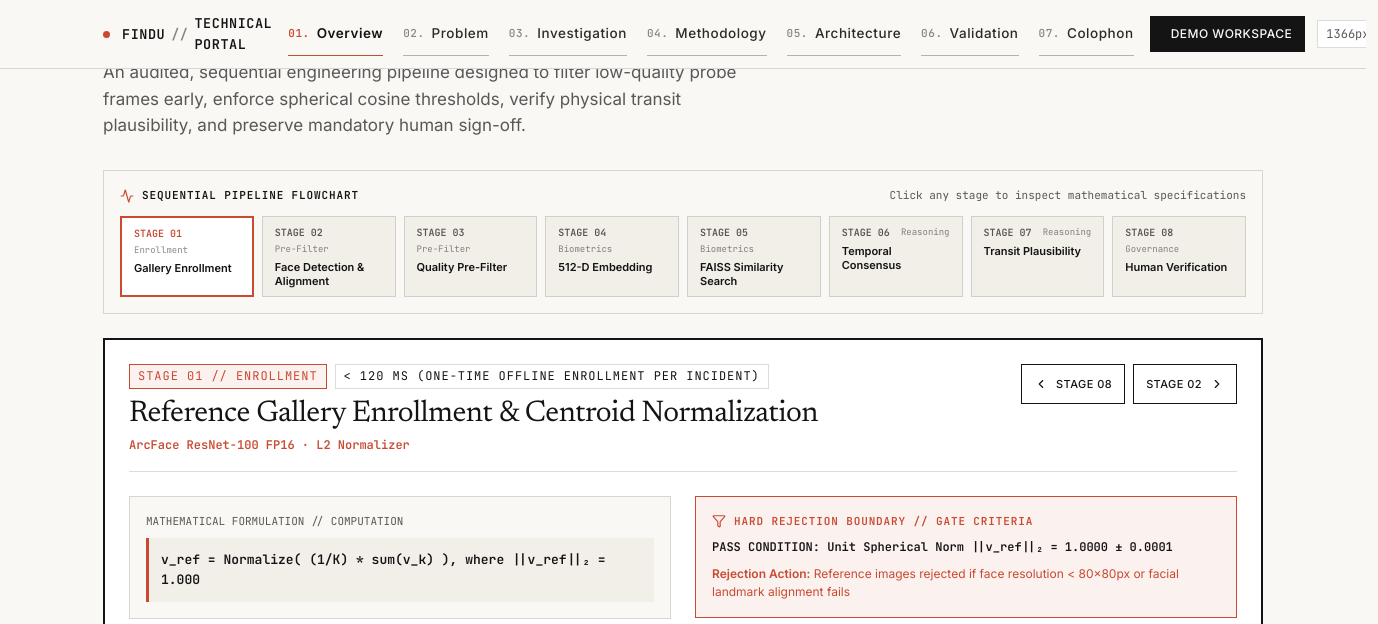
Test: Phase P6: Technical Methodology & Architecture Verification › Section 04: Technical Methodology Pipeline › allows advancing pipeline stages using next and previous controls
The image size is (1378, 624).
(page scrolled)
Click Next stage button
Step 1. Click the button with aria-label "Next pipeline stage" → (1185, 384), box [1133,364,1237,404]
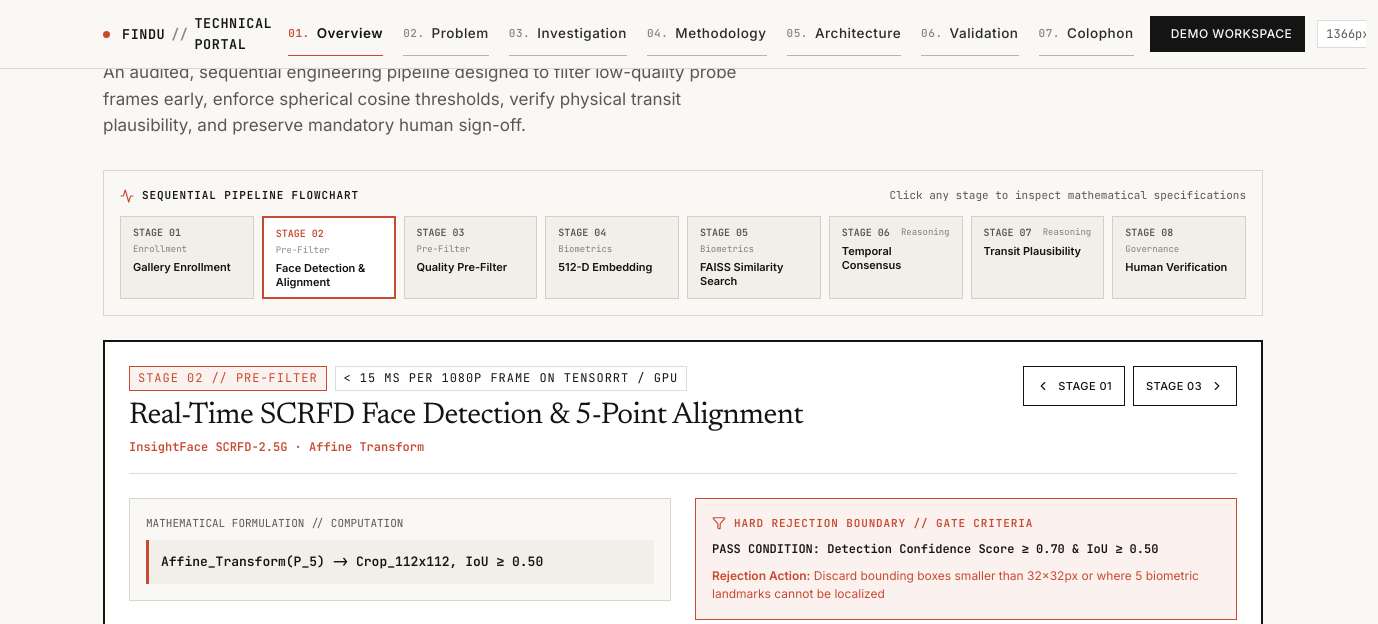
Check: the heading "Real-Time SCRFD Face Detection & 5-Point Alignment" is shown, box [129,401,803,431]
Advance again to Stage 03
Step 2. Click the button with aria-label "Next pipeline stage" → (1185, 386), box [1133,366,1237,406]
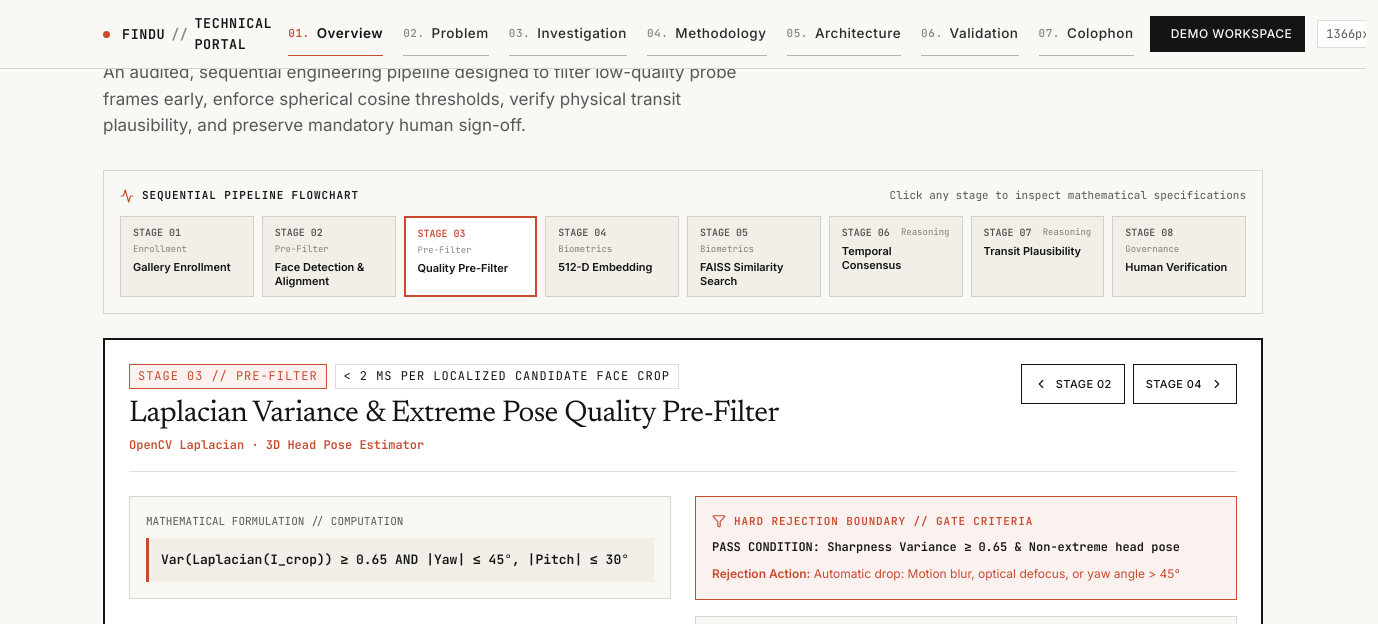
Check: the heading "Laplacian Variance & Extreme Pose Quality Pre-Filter" is shown, box [129,399,779,429]
Check: the text "Var(Laplacian(I_crop)) ≥ 0.65 AND |Yaw| ≤ 45°, |Pitch| ≤ 30°" is shown, box [146,538,654,582]
Previous button navigates back
Step 3. Click the button with aria-label "Previous pipeline stage" → (1073, 384), box [1021,364,1125,404]
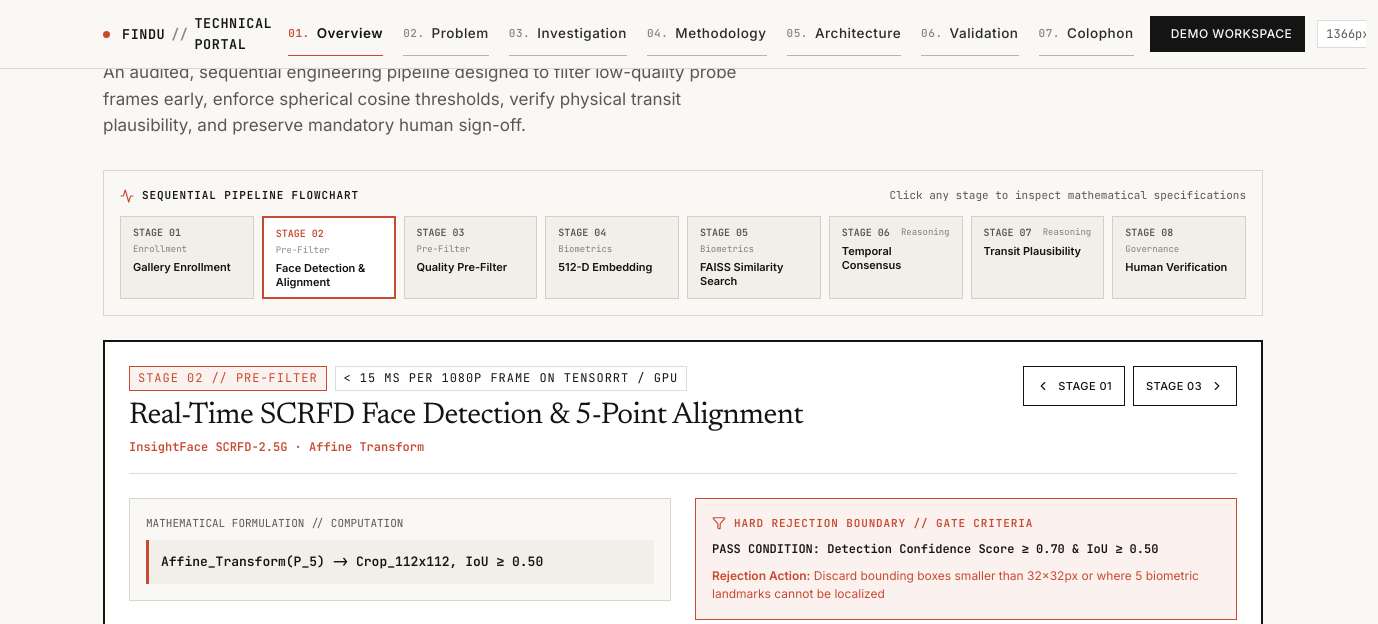
Check: the heading "Real-Time SCRFD Face Detection & 5-Point Alignment" is shown, box [129,401,803,431]
